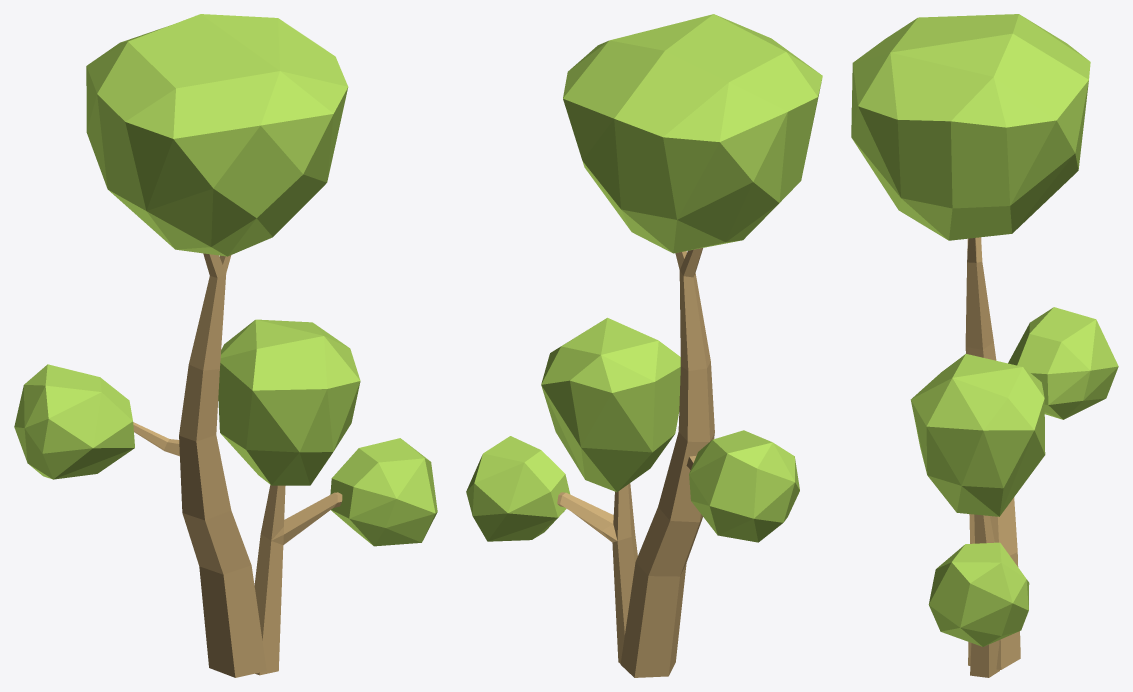
Rendered from Simple_Tree_m_BT_04.fbx.
The picture shows the model from 3 angles, left to right: view 1: azimuth 30°, elevation 25°; view 2: azimuth 150°, elevation 25°; view 3: azimuth 270°, elevation 25°; orthographic projection. The views are drawn at different scales.
Visible parts, largest first — view 1: Simple_Tree_m_BT_04; view 2: Simple_Tree_m_BT_04; view 3: Simple_Tree_m_BT_04.
Boxes of the visible parts, x1,y1,x2,y2 form: Simple_Tree_m_BT_04: (14, 14, 437, 677); Simple_Tree_m_BT_04: (466, 14, 822, 677); Simple_Tree_m_BT_04: (851, 14, 1118, 677).
Bounding box in the file's own units: 419 × 719 × 283.
